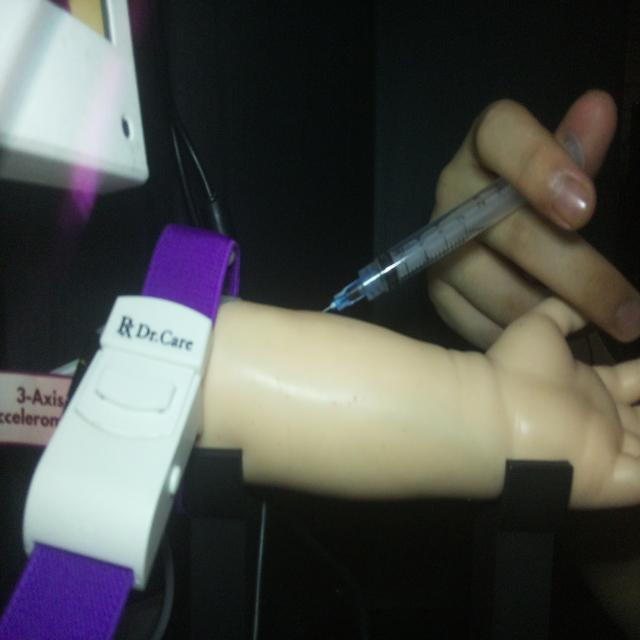24 degrees: (320, 126, 588, 316)
